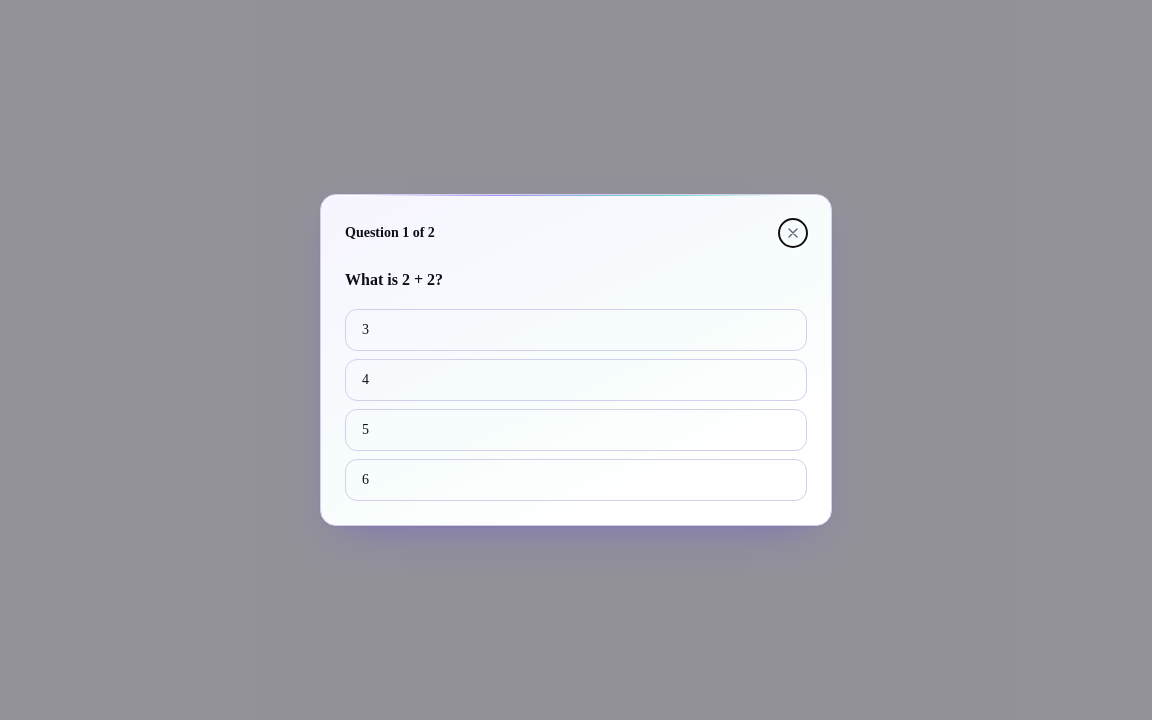
Scenario: QuizSession › advances to the next question and labels the last step Finish
Click the button "4" at (366, 380), box [345,359,807,401]
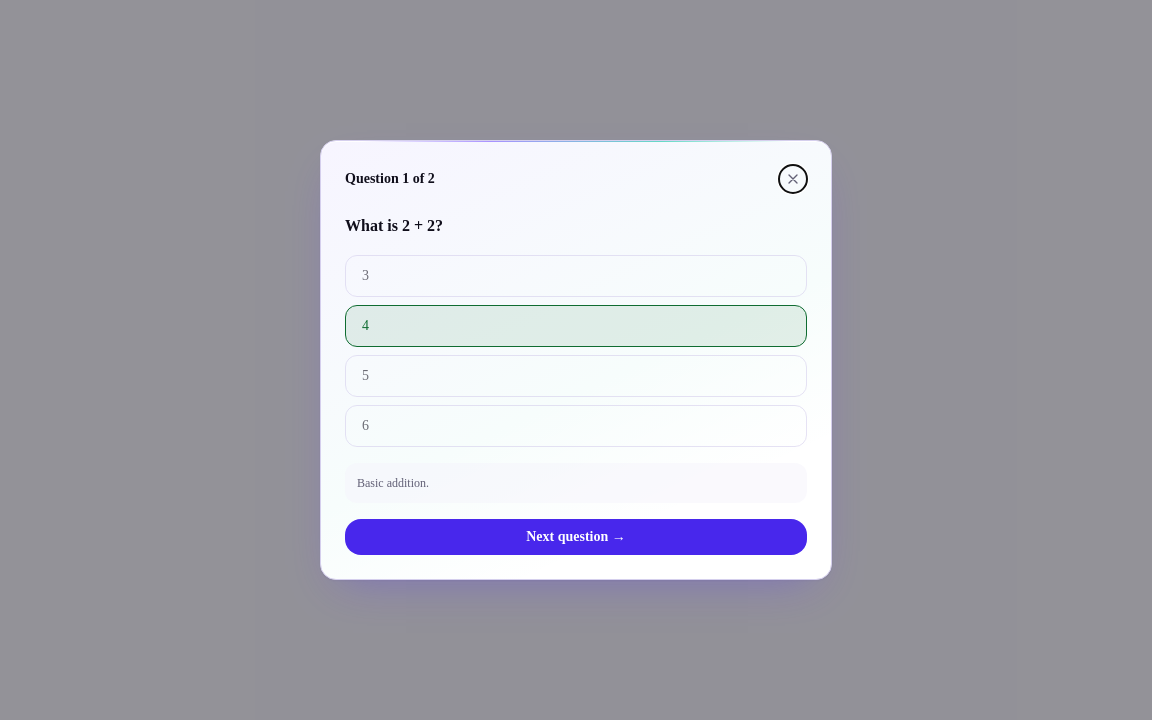
Click the button "Next question →" at (576, 537), box [345,519,807,555]
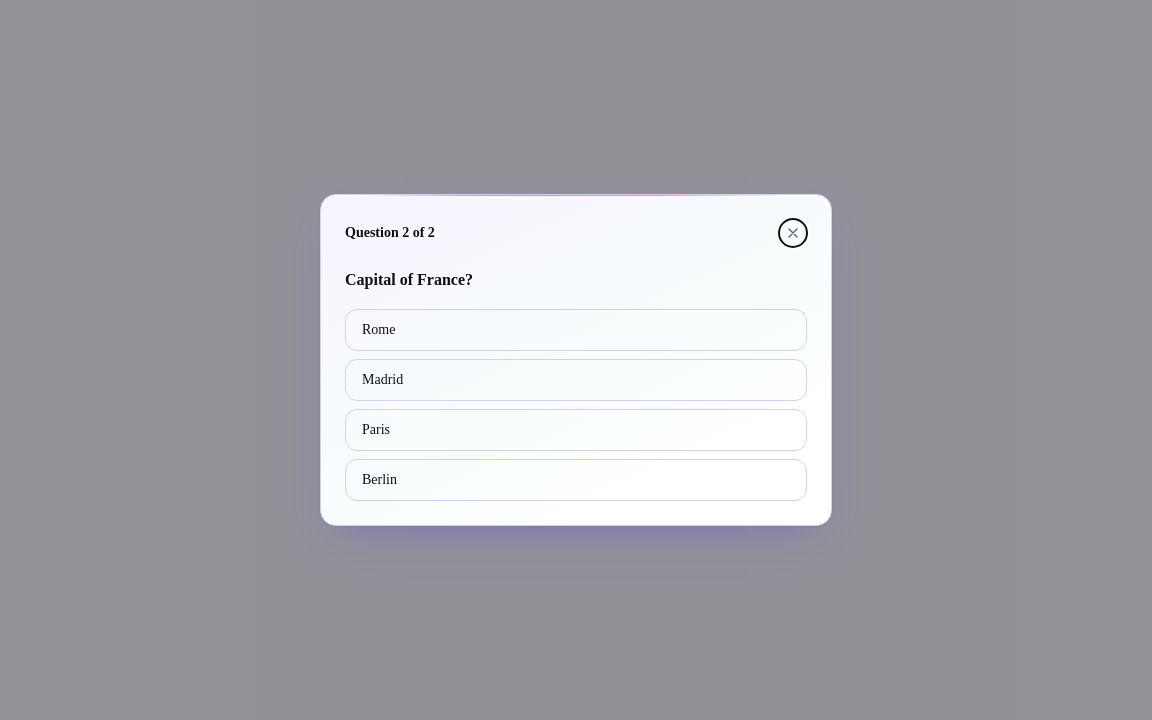
Check: the heading "Question 2 of 2" is shown, box [345,223,435,243]
Check: the text "Capital of France?" is shown, box [345,271,473,288]
Check: the text "Basic addition." is gone
Click the button "Paris" at (376, 430), box [345,409,807,451]
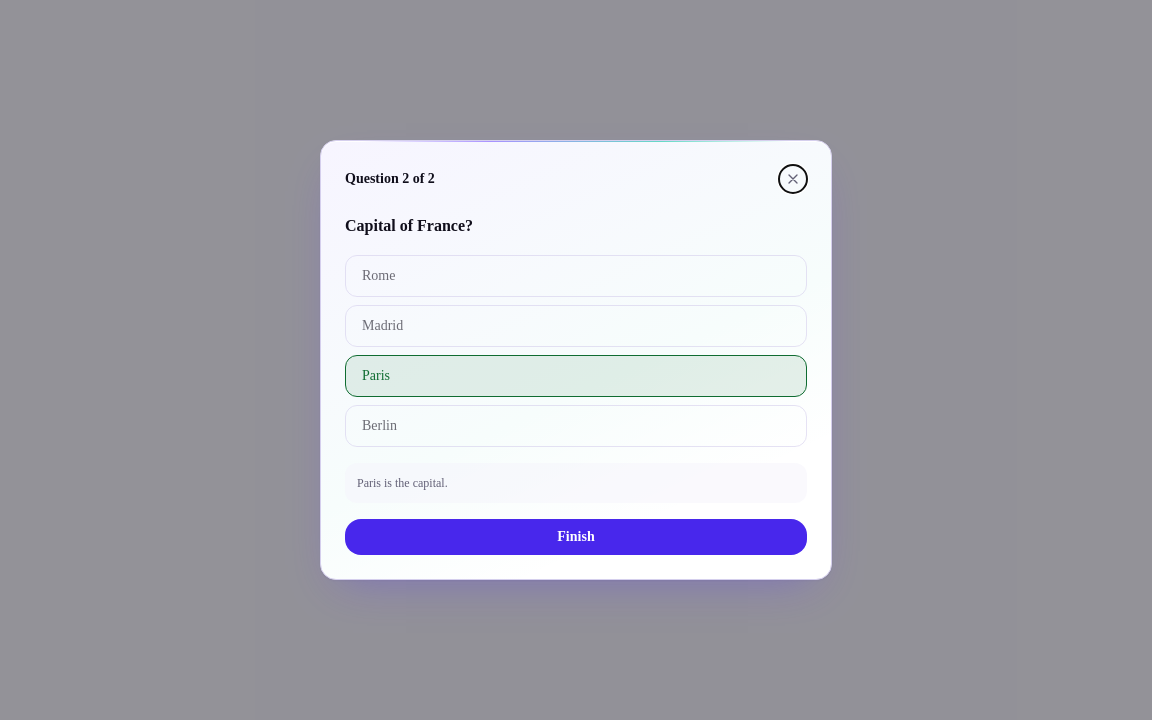
Check: the button "Finish" is shown, box [345,519,807,555]
